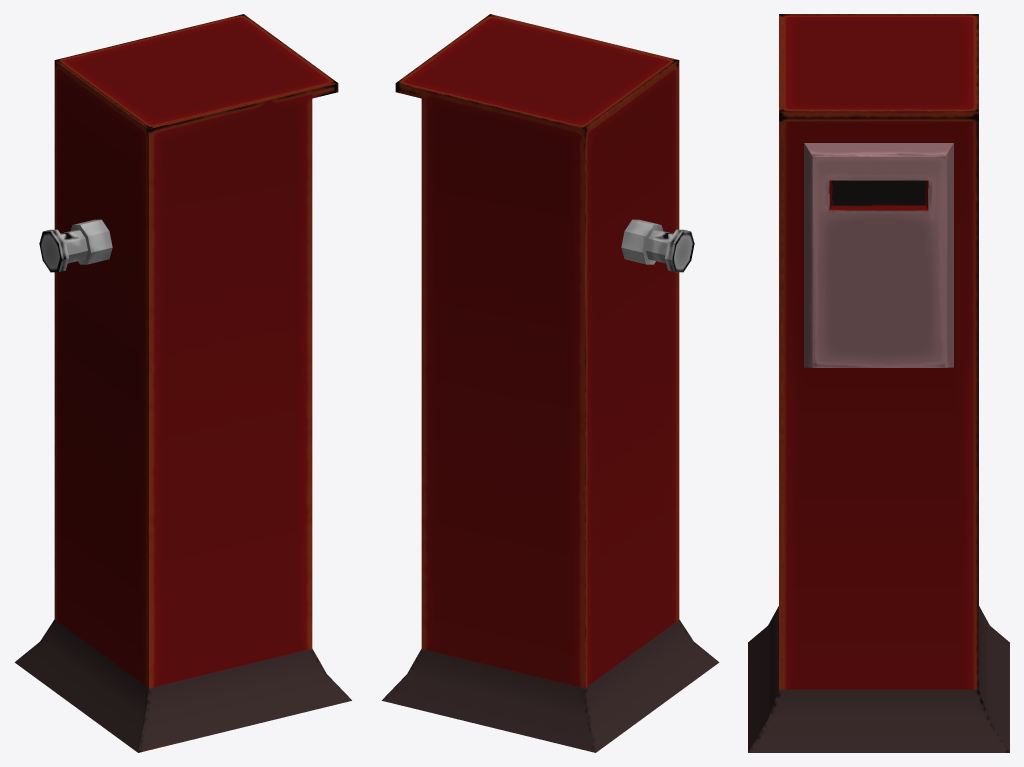
The model's file is ParkingGate_low.fbx.
3 renders of one model, left to right at view 1: azimuth 30°, elevation 25°; view 2: azimuth 150°, elevation 25°; view 3: azimuth 270°, elevation 25°, orthographic. The views are drawn at different scales.
Parts seen in each view (by area): view 1: ParkingGate_low; view 2: ParkingGate_low; view 3: ParkingGate_low.
Part boxes in pixels (x1,y1,x2,y2): ParkingGate_low: (14,14,351,752); ParkingGate_low: (382,14,719,752); ParkingGate_low: (748,14,1009,752).
Bounding box in the file's own units: 0.7643 × 1.84 × 0.6816.
